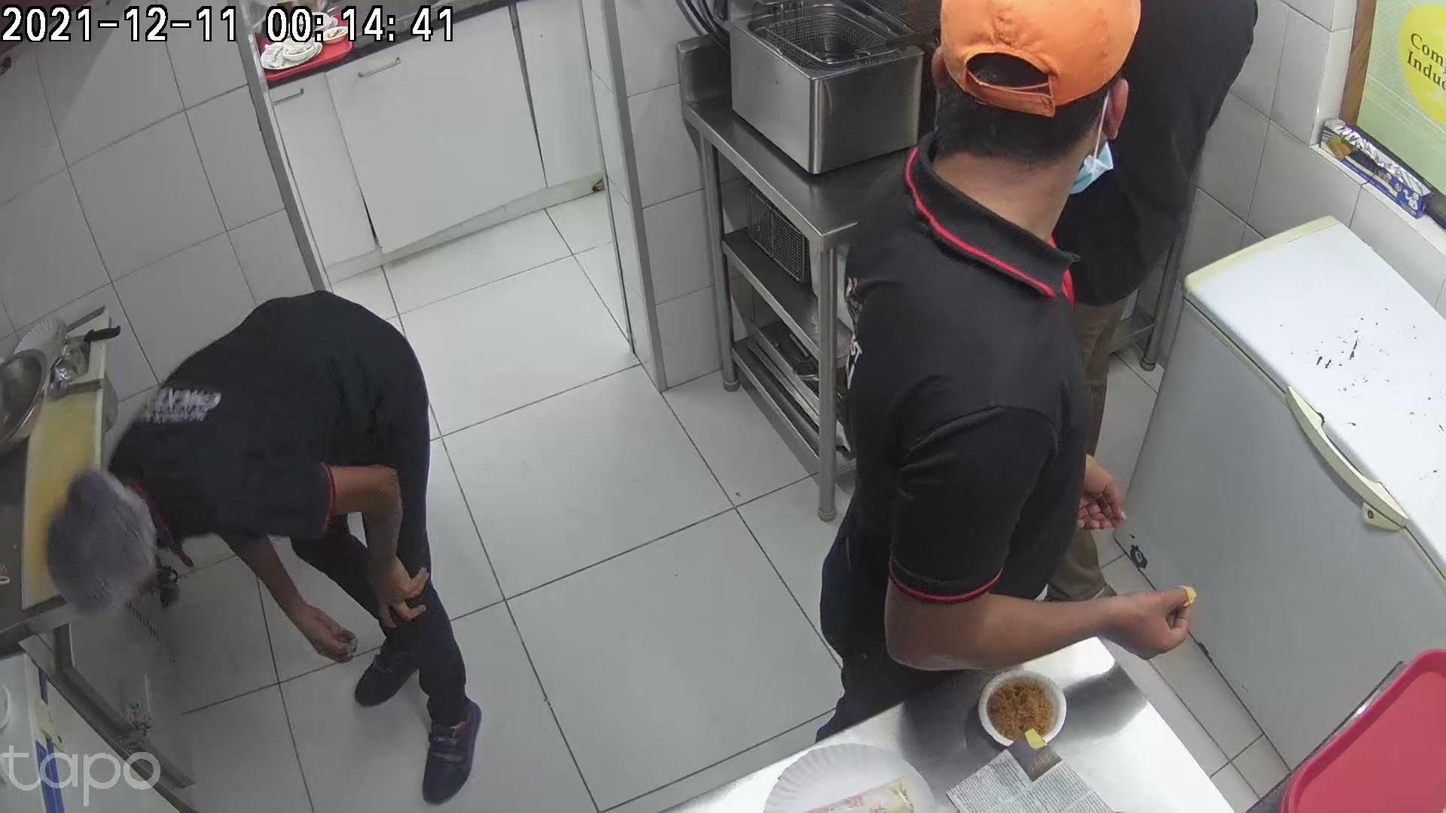gloves: (673, 592, 760, 752)
